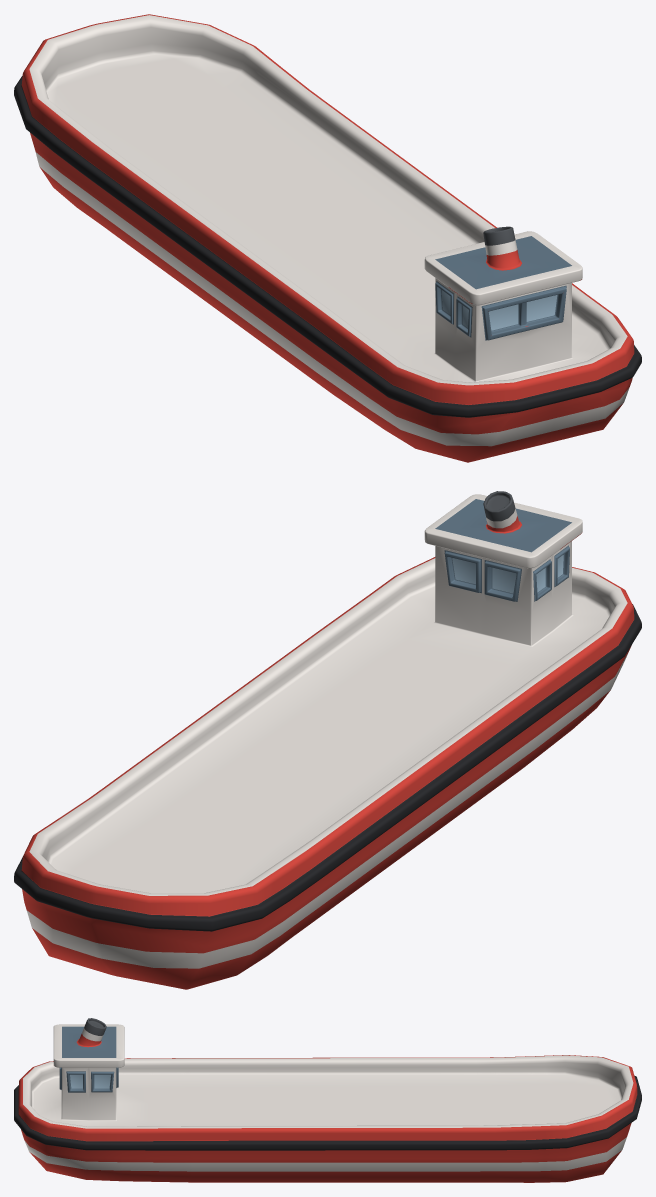
File: ship_v2.fbx
3 renders of one model, top to bottom at view 1: azimuth 30°, elevation 25°; view 2: azimuth 150°, elevation 25°; view 3: azimuth 270°, elevation 25°, orthographic. The views are drawn at different scales.
Visible parts, largest first — view 1: Cube.002; view 2: Cube.002; view 3: Cube.002.
Part boxes in pixels (left/top/right/bottom): Cube.002: left=14, top=14, right=641, bottom=462; Cube.002: left=14, top=491, right=641, bottom=989; Cube.002: left=14, top=1018, right=641, bottom=1182.
Size of the model in its own units: 6.7 by 5.34 by 22.96.
